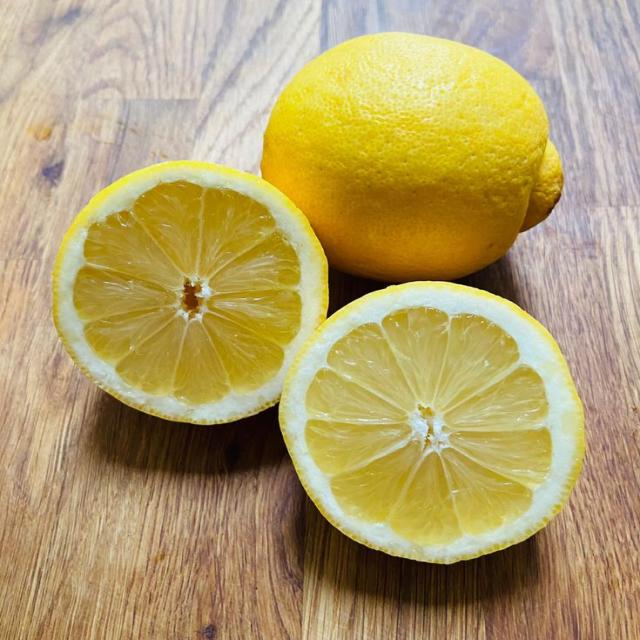lemon: (280, 283, 584, 562), (262, 33, 562, 281), (54, 162, 327, 423)
